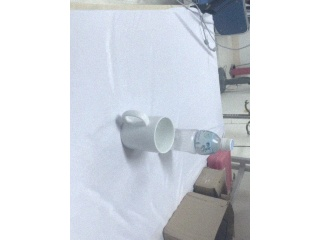bottle: (170, 129, 234, 155)
box: (164, 192, 234, 240), (194, 167, 227, 197)
cup: (119, 110, 175, 154)
